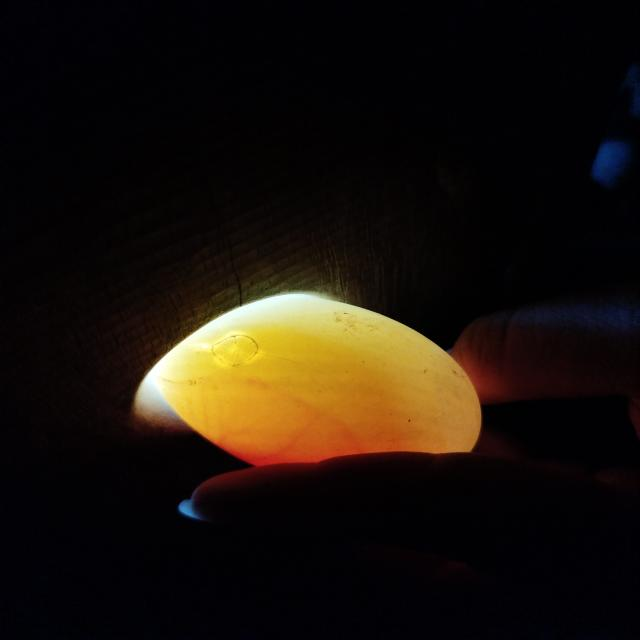Rachadura: (212, 336, 257, 366)
